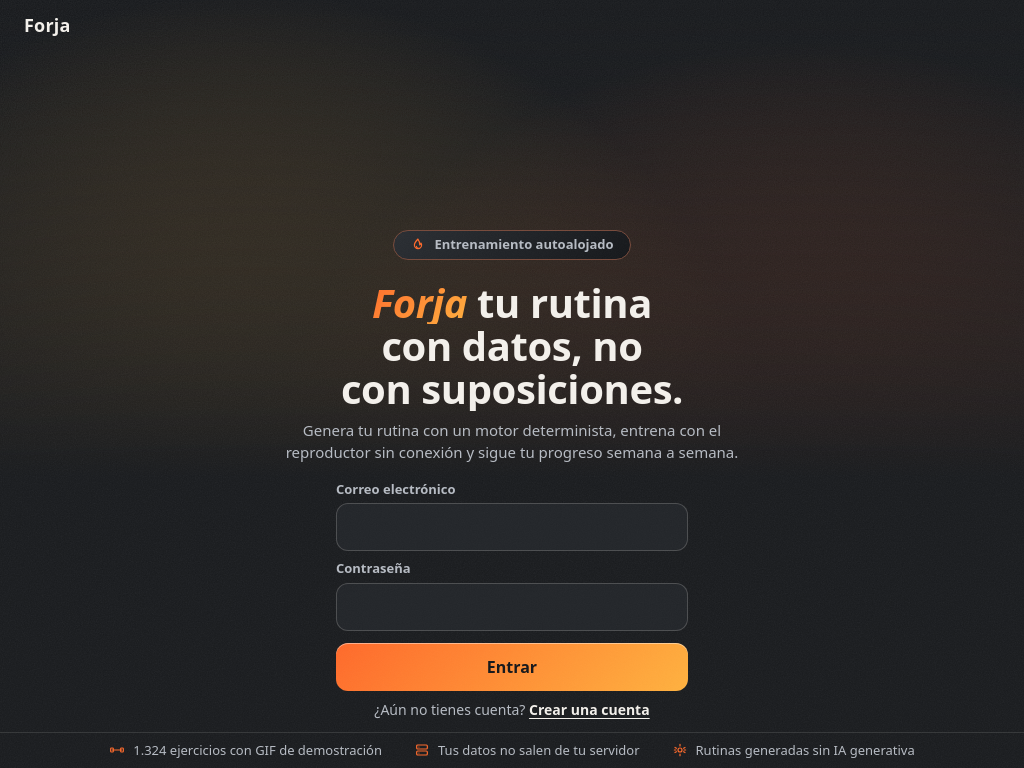
Test: guarda de sesión › login: un fallo de red muestra el mensaje genérico
Type "a@x.com" into the field labelled "Correo electrónico". click: (512, 527)
box: [336, 503, 688, 551]
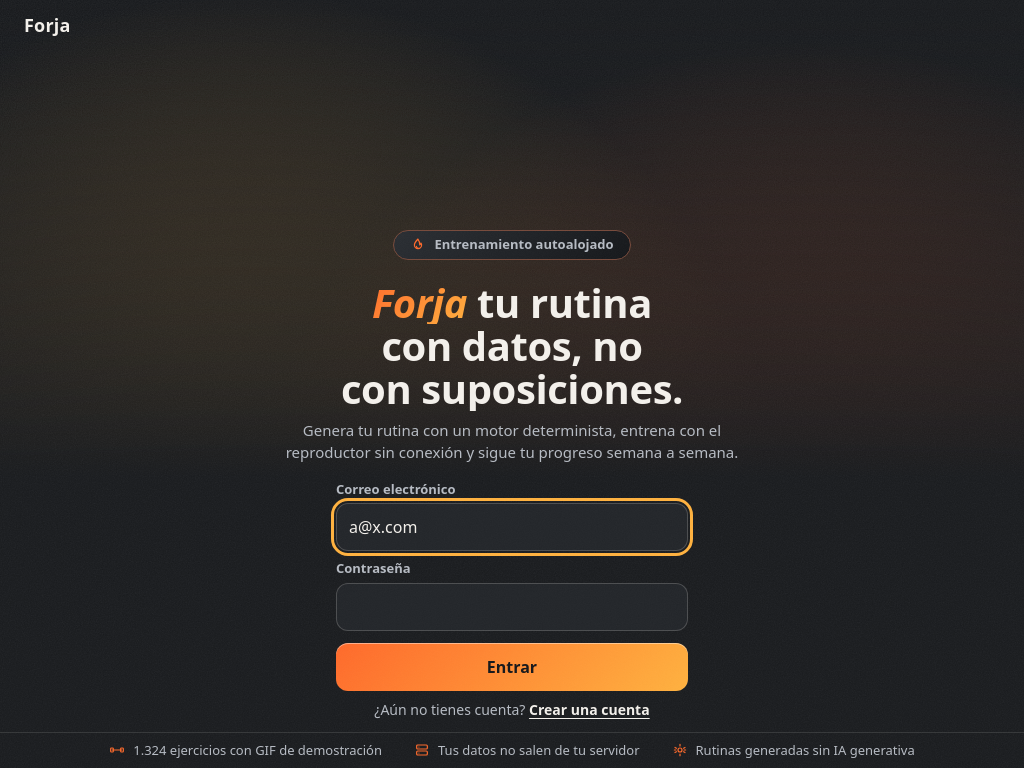
Type "clave" into the password field labelled "Contraseña". click: (512, 606)
box: [336, 582, 688, 630]
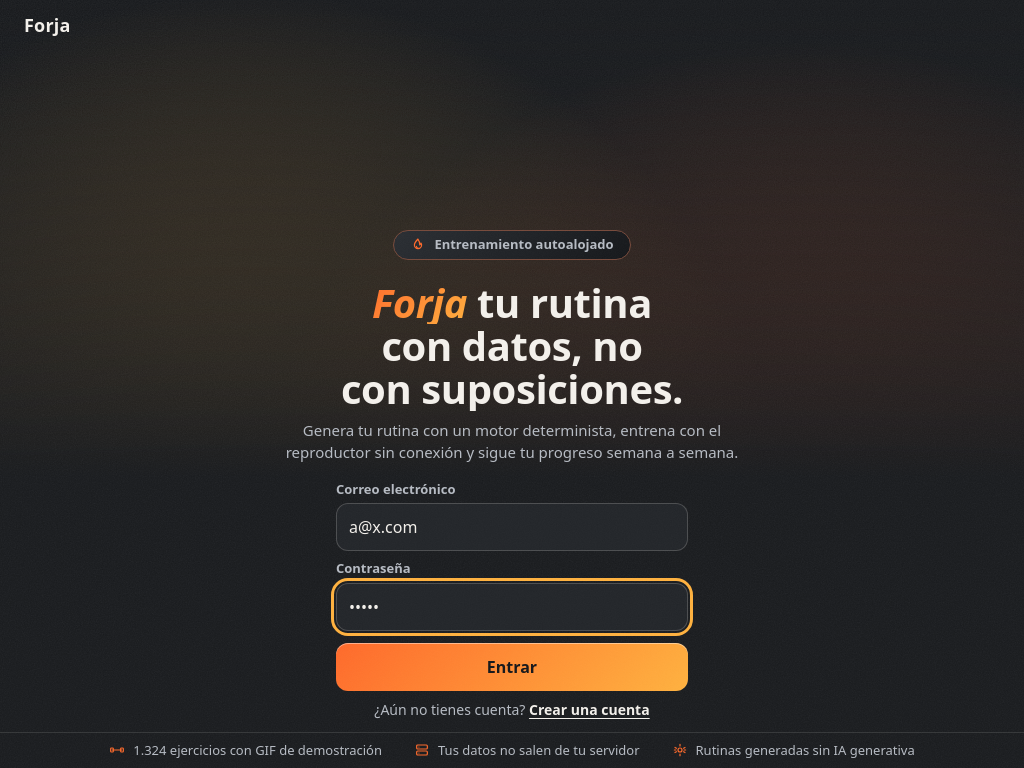
Click the button "Entrar". click: click(512, 666)
box: [336, 642, 688, 690]
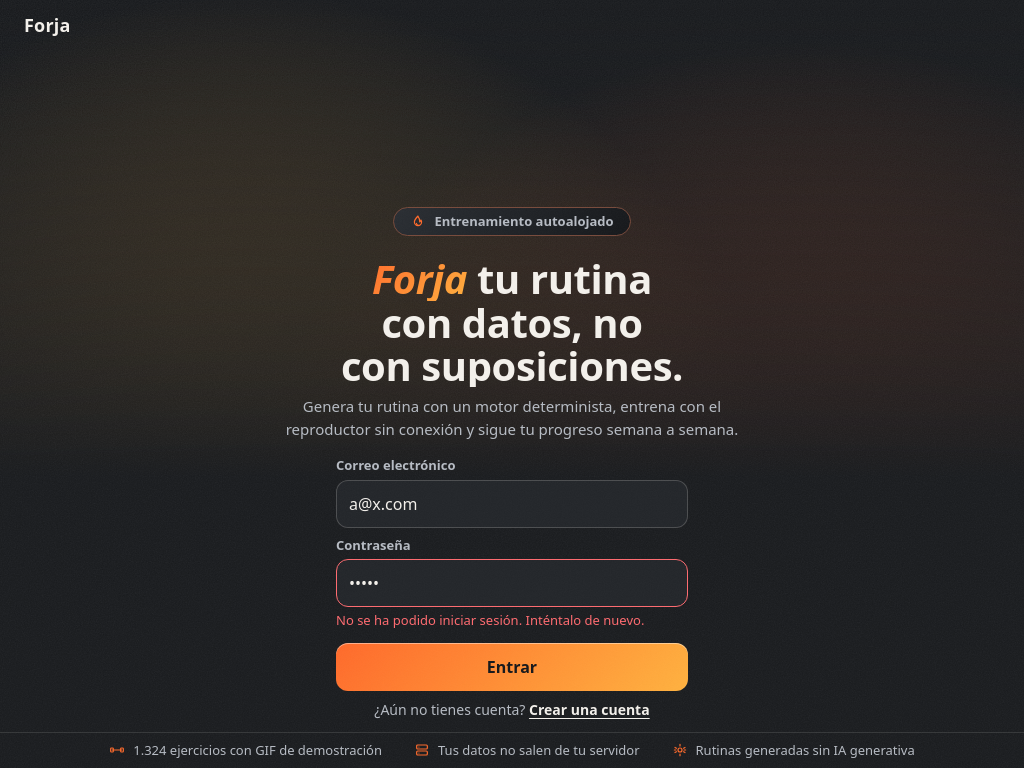
Expected: the text "No se ha podido iniciar sesión. Inténtalo de nuevo." is shown, [336, 611, 688, 630]
